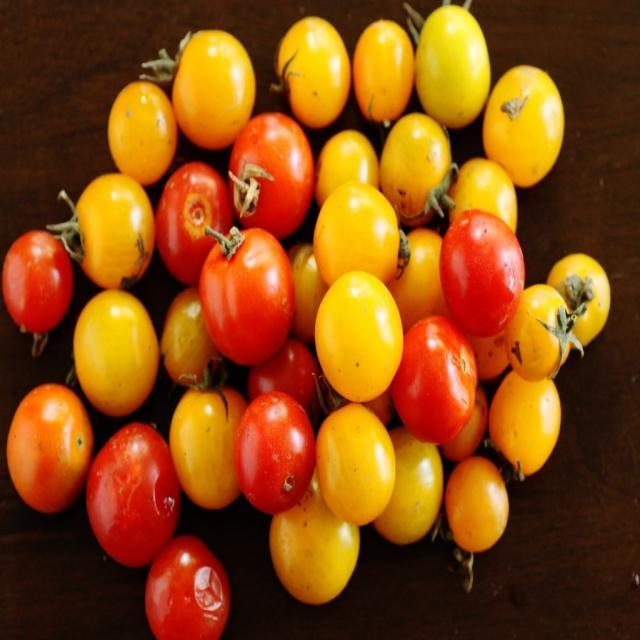Tomato: (4, 4, 608, 640), (198, 222, 293, 369)
